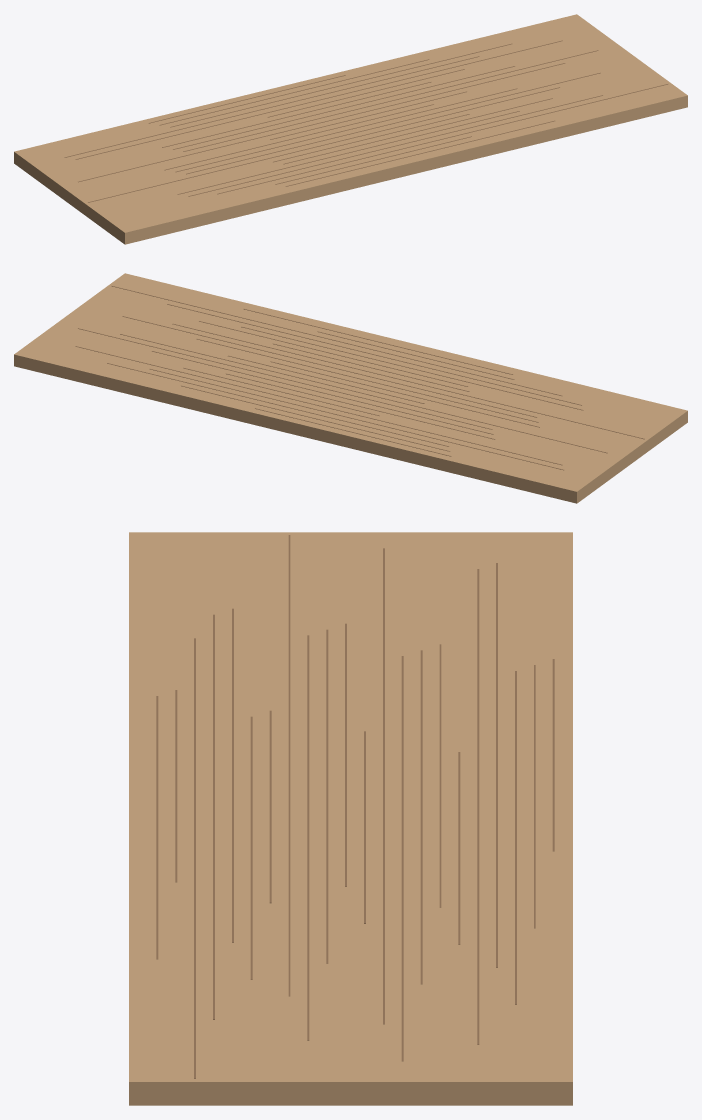
Rendered from ikea-saljan-60439173-g2-countertop-proxy.glb.
3 views of the same model, one above another, from view 1: azimuth 30°, elevation 25°; view 2: azimuth 150°, elevation 25°; view 3: azimuth 270°, elevation 25° (orthographic). The views are drawn at different scales.
Visible parts, largest first — view 1: countertop_slab, oak_grain_10, oak_grain_5, oak_grain_15, oak_grain_20, oak_grain_9, oak_grain_4, oak_grain_14, oak_grain_19, oak_grain_13, oak_grain_18, oak_grain_3 (+1 smaller); view 2: countertop_slab, oak_grain_5, oak_grain_10, oak_grain_15, oak_grain_20, oak_grain_9, oak_grain_14, oak_grain_19, oak_grain_4, oak_grain_18, oak_grain_8, oak_grain_3 (+1 smaller); view 3: countertop_slab, oak_grain_5, oak_grain_15, oak_grain_14, oak_grain_9, oak_grain_8, oak_grain_13, oak_grain_10, oak_grain_20.
Part boxes in pixels (x1,y1,x2,y2): countertop_slab: (14,14,687,244); oak_grain_10: (78,63,565,182); oak_grain_5: (75,40,562,159); oak_grain_15: (88,87,559,202); oak_grain_20: (217,84,668,194); oak_grain_9: (183,50,598,151); oak_grain_4: (64,56,479,157); oak_grain_14: (186,72,600,174); oak_grain_19: (188,95,602,196); oak_grain_13: (175,88,517,172); oak_grain_18: (177,111,519,194); oak_grain_3: (170,43,512,127); countertop_slab: (14,273,687,503); oak_grain_5: (75,346,562,465); oak_grain_10: (120,334,607,453); oak_grain_15: (172,323,644,439); oak_grain_20: (111,286,562,395); oak_grain_9: (78,328,492,429); oak_grain_14: (122,316,536,417); oak_grain_19: (167,304,581,405); oak_grain_4: (149,369,563,470); oak_grain_18: (241,326,583,410); oak_grain_8: (151,351,493,434); oak_grain_3: (107,363,448,446); countertop_slab: (129,532,572,1105); oak_grain_5: (477,569,479,1044); oak_grain_15: (288,535,290,996); oak_grain_14: (307,635,309,1040); oak_grain_9: (401,656,403,1061); oak_grain_8: (420,650,422,984); oak_grain_13: (326,629,328,963); oak_grain_10: (383,548,384,1024); oak_grain_20: (194,638,195,1078).
Size of the model in its own units: 1.86 by 0.038 by 0.635.
